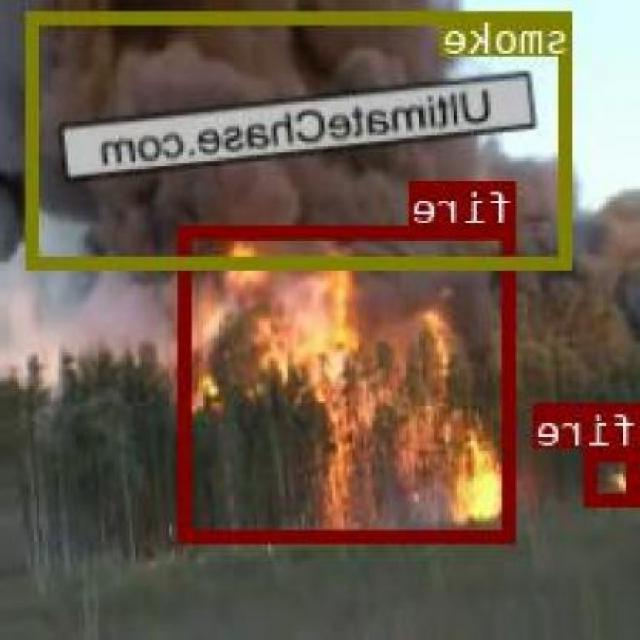Fire: (174, 265, 448, 397), (286, 394, 504, 526)
Smoke: (0, 0, 563, 362)
